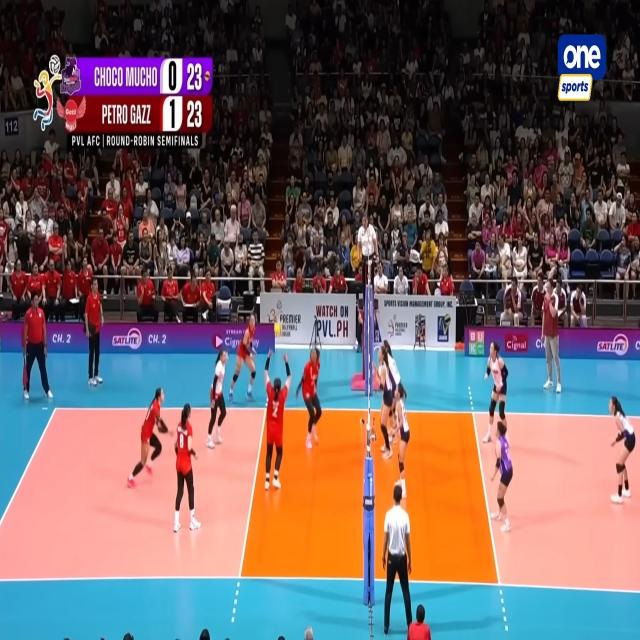Volleyball-Ball: (274, 320, 282, 340)
